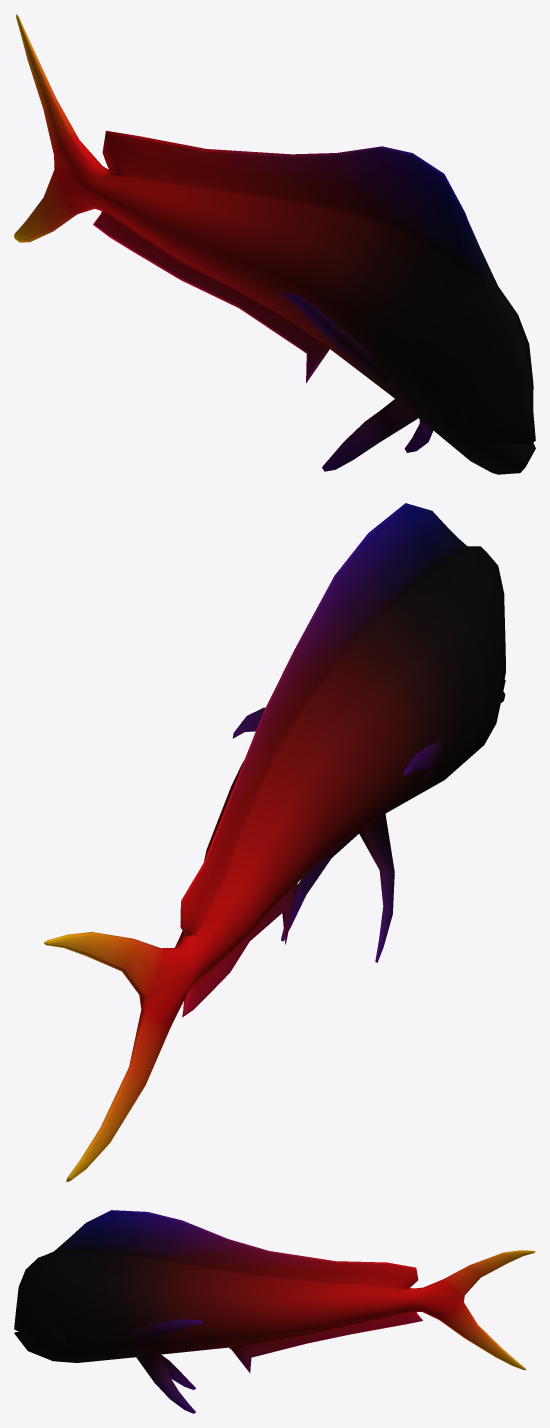
The picture shows the model from 3 angles, top to bottom: view 1: azimuth 30°, elevation 25°; view 2: azimuth 150°, elevation 25°; view 3: azimuth 270°, elevation 25°; orthographic projection. The views are drawn at different scales.
Parts seen in each view (by area): view 1: mahi_mahi; view 2: mahi_mahi; view 3: mahi_mahi.
Boxes of the visible parts, x1,y1,x2,y2 form: mahi_mahi: [14, 14, 535, 474]; mahi_mahi: [44, 503, 505, 1181]; mahi_mahi: [14, 1210, 535, 1413].
Size of the model in its own units: 0.1983 by 0.4042 by 0.9854.
